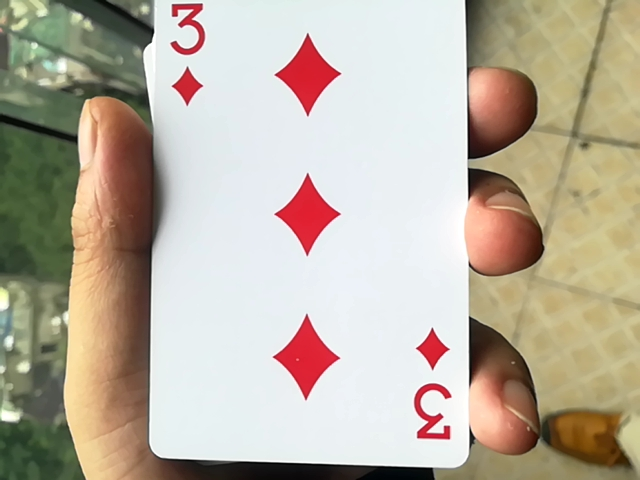fk 3: (131, 1, 480, 472)
